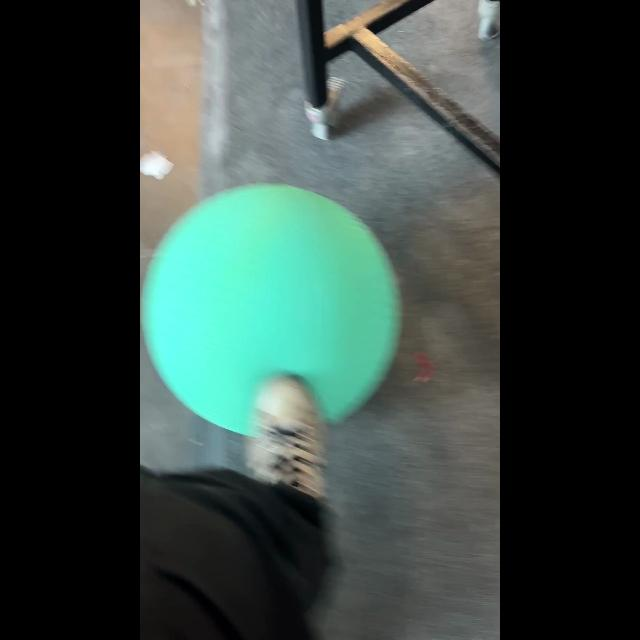ALGAE: (142, 182, 402, 438)
